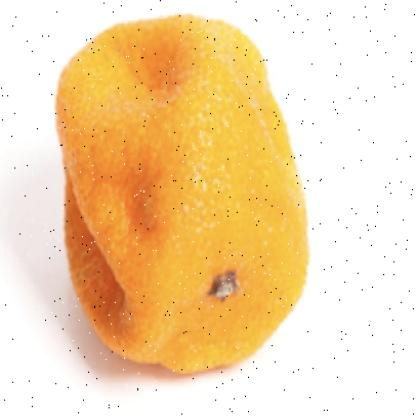rotten: (56, 13, 311, 380)
